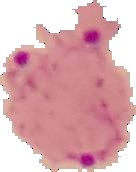parasitized: (4, 45, 133, 172), (56, 100, 128, 168), (58, 15, 122, 74), (10, 44, 69, 100)
